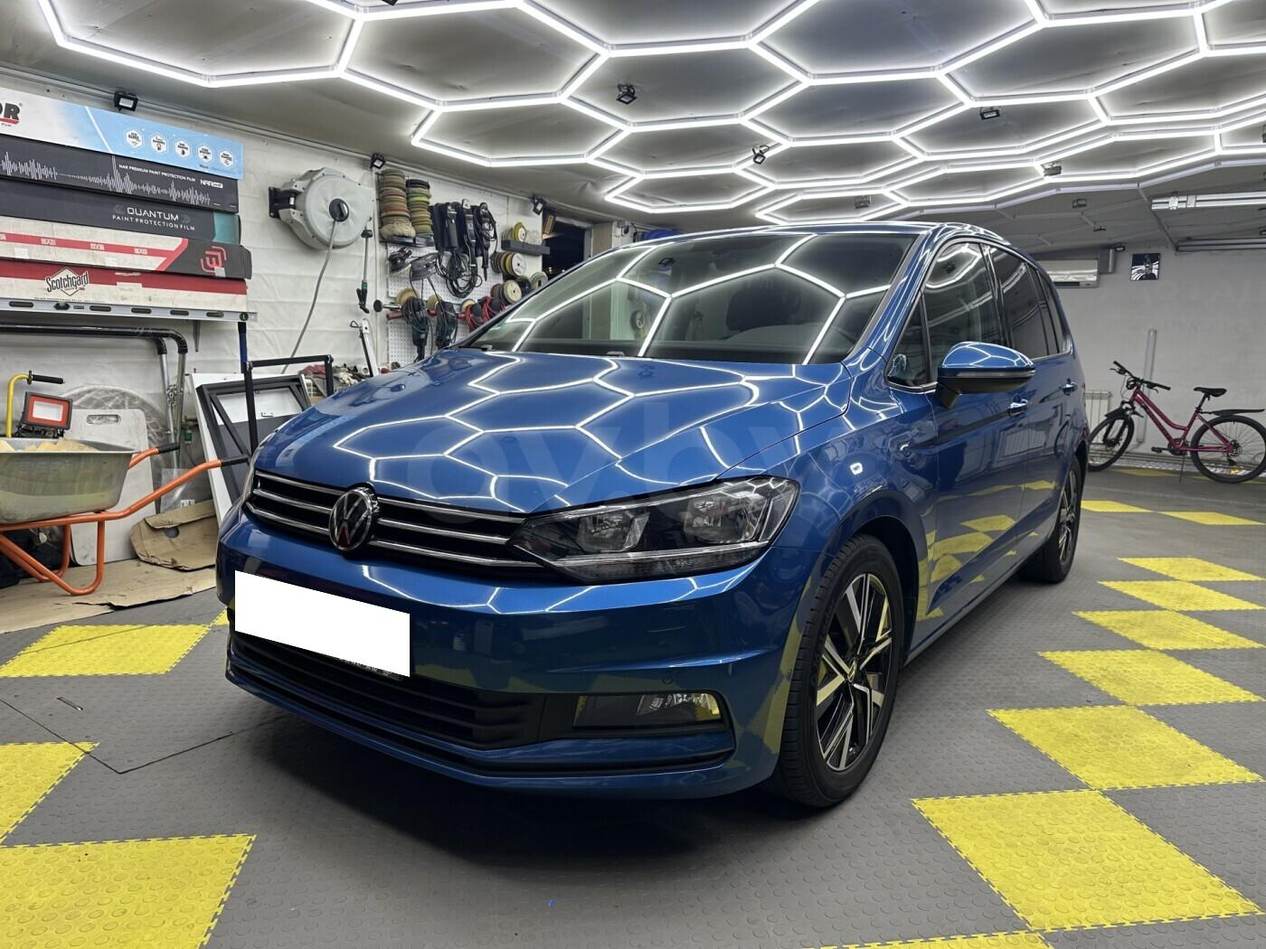Touran_2015: (200, 210, 1103, 833)
